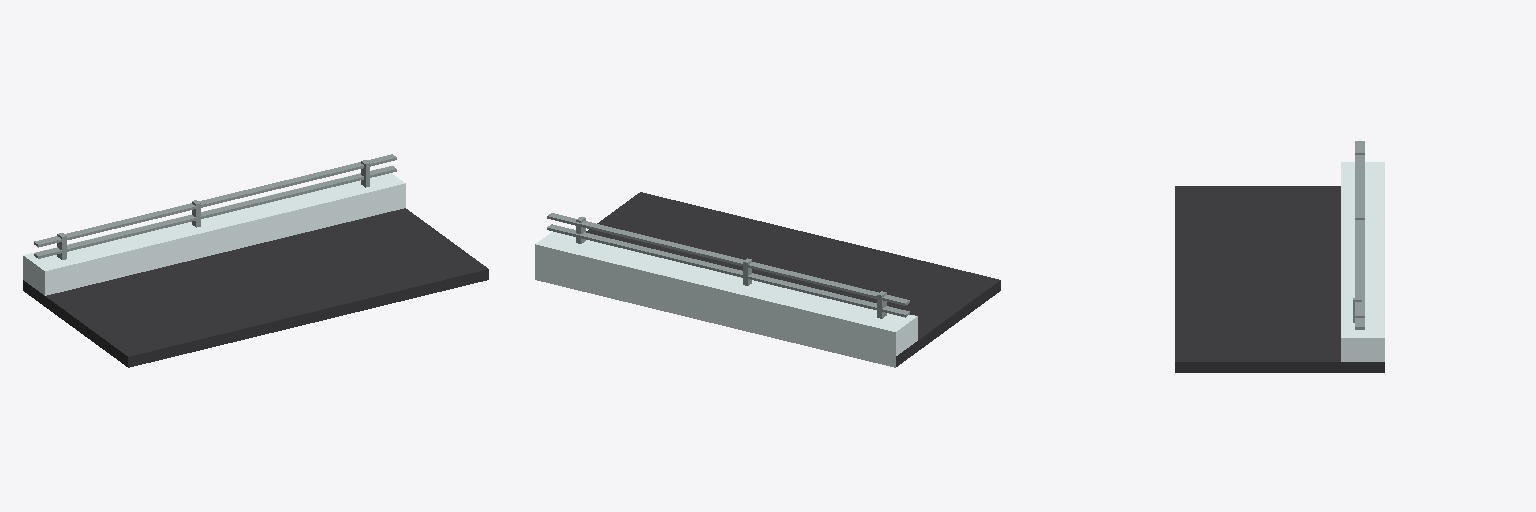
3 renders of one model, left to right at view 1: azimuth 30°, elevation 25°; view 2: azimuth 150°, elevation 25°; view 3: azimuth 270°, elevation 25°, orthographic.
Visible parts, largest first — view 1: Mesh1 Group2 Group1 Model, Mesh3 Group3 Group1 Model, Mesh5 Group5 Group4 Group1 Model, Mesh11 Group8 Group4 Group1 Model; view 2: Mesh1 Group2 Group1 Model, Mesh3 Group3 Group1 Model, Mesh5 Group5 Group4 Group1 Model, Mesh11 Group8 Group4 Group1 Model; view 3: Mesh1 Group2 Group1 Model, Mesh3 Group3 Group1 Model, Mesh5 Group5 Group4 Group1 Model.
Part boxes in pixels (x1,y1,x2,y2): Mesh1 Group2 Group1 Model: (23, 208, 488, 367); Mesh3 Group3 Group1 Model: (23, 167, 405, 295); Mesh5 Group5 Group4 Group1 Model: (34, 154, 396, 247); Mesh11 Group8 Group4 Group1 Model: (34, 166, 396, 258); Mesh1 Group2 Group1 Model: (535, 192, 1000, 367); Mesh3 Group3 Group1 Model: (535, 232, 917, 356); Mesh5 Group5 Group4 Group1 Model: (547, 213, 909, 305); Mesh11 Group8 Group4 Group1 Model: (547, 224, 909, 317); Mesh1 Group2 Group1 Model: (1175, 186, 1384, 372); Mesh3 Group3 Group1 Model: (1341, 162, 1384, 361); Mesh5 Group5 Group4 Group1 Model: (1355, 141, 1364, 317).
Bounding box in the file's own units: 18.15 × 2.83 × 9.18.
3 materials, 1 textured.